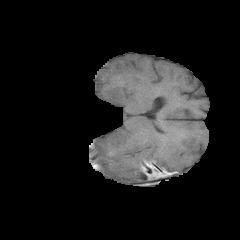glioma: (130, 133, 197, 180)
